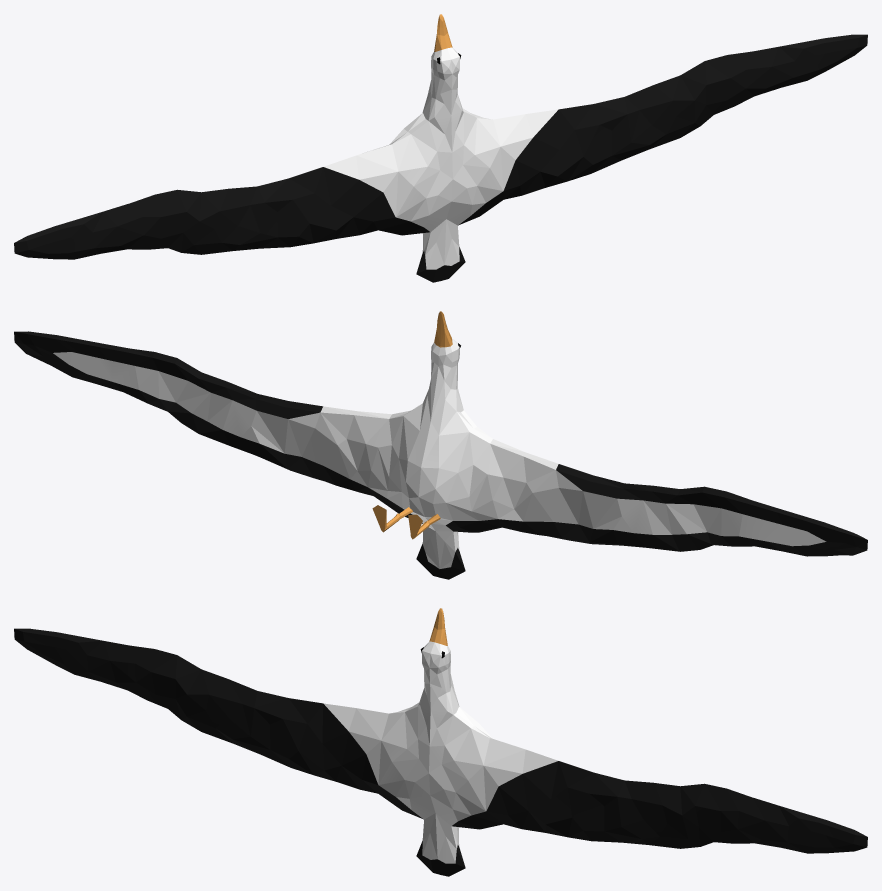
The model's file is Albatross.glb.
3 views of the same model, one above another, from view 1: azimuth 30°, elevation 25°; view 2: azimuth 150°, elevation 25°; view 3: azimuth 330°, elevation 25° (orthographic).
Visible parts, largest first — view 1: Albatross; view 2: Albatross; view 3: Albatross.
Part boxes in pixels (x1,y1,x2,y2): Albatross: [14, 14, 867, 282]; Albatross: [14, 311, 867, 579]; Albatross: [14, 608, 867, 876].
Size of the model in its own units: 4.04 by 1.2 by 0.4551.
Materials: 1 (1 with a texture image).
